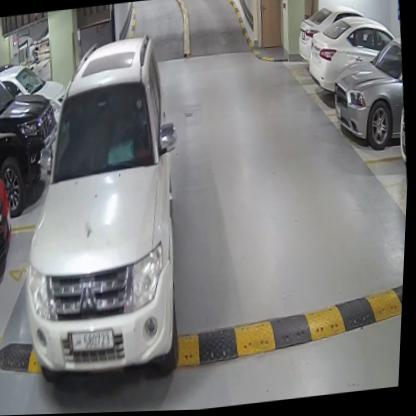np: (70, 326, 119, 356)
